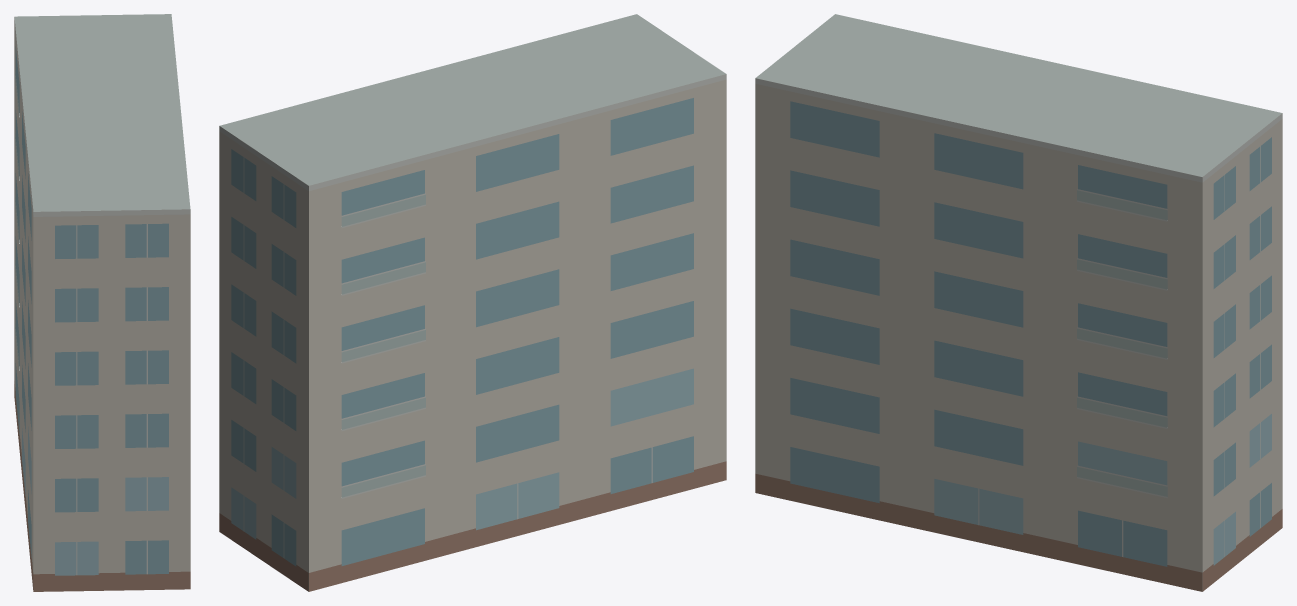
File: survey-upis-32537711.glb
3 renders of one model, left to right at view 1: azimuth 30°, elevation 25°; view 2: azimuth 150°, elevation 25°; view 3: azimuth 270°, elevation 25°, orthographic. The views are drawn at different scales.
Parts seen in each view (by area): view 1: survey-upis-32537711.tmp; view 2: survey-upis-32537711.tmp; view 3: survey-upis-32537711.tmp.
Part boxes in pixels (<box>): survey-upis-32537711.tmp: <box>14,14,190,591</box>; survey-upis-32537711.tmp: <box>219,14,726,591</box>; survey-upis-32537711.tmp: <box>755,14,1282,591</box>.
Bounding box in the file's own units: 15.45 × 18.3 × 21.1.
